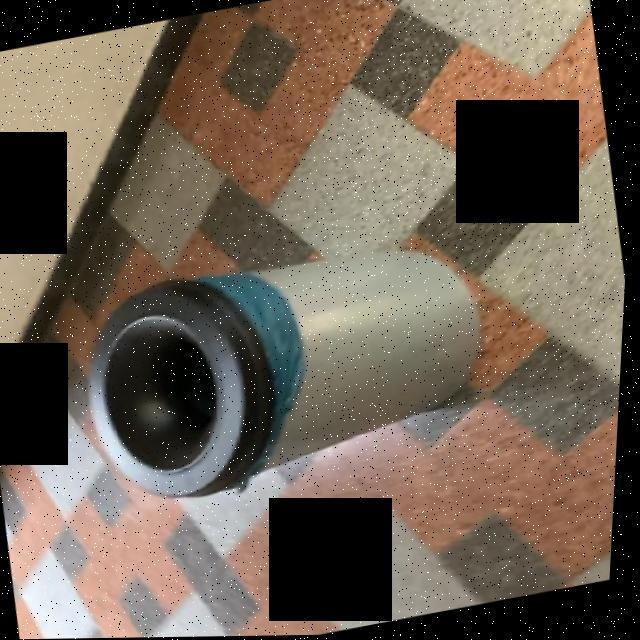bin: (45, 197, 548, 538)
